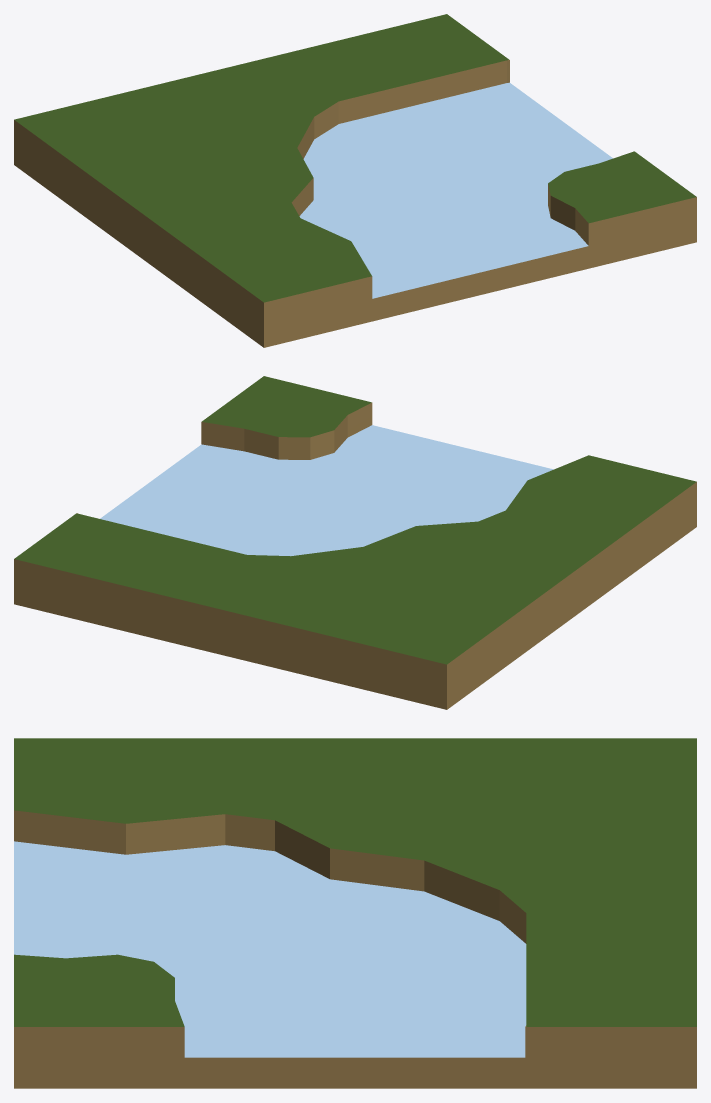
Rendered from Terrain_Modular_Tiles_Grass_Dirt_River_Bend_02.fbx.
3 renders of one model, top to bottom at view 1: azimuth 30°, elevation 25°; view 2: azimuth 150°, elevation 25°; view 3: azimuth 270°, elevation 25°, orthographic. The views are drawn at different scales.
Visible parts, largest first — view 1: Terrain_Modular_Tiles_Grass_Dirt_River_Bend_02; view 2: Terrain_Modular_Tiles_Grass_Dirt_River_Bend_02; view 3: Terrain_Modular_Tiles_Grass_Dirt_River_Bend_02.
Part boxes in pixels (x1,y1,x2,y2): Terrain_Modular_Tiles_Grass_Dirt_River_Bend_02: [14, 14, 696, 347]; Terrain_Modular_Tiles_Grass_Dirt_River_Bend_02: [14, 376, 696, 709]; Terrain_Modular_Tiles_Grass_Dirt_River_Bend_02: [14, 738, 696, 1088].
Bounding box in the file's own units: 3000 × 300 × 3000.
